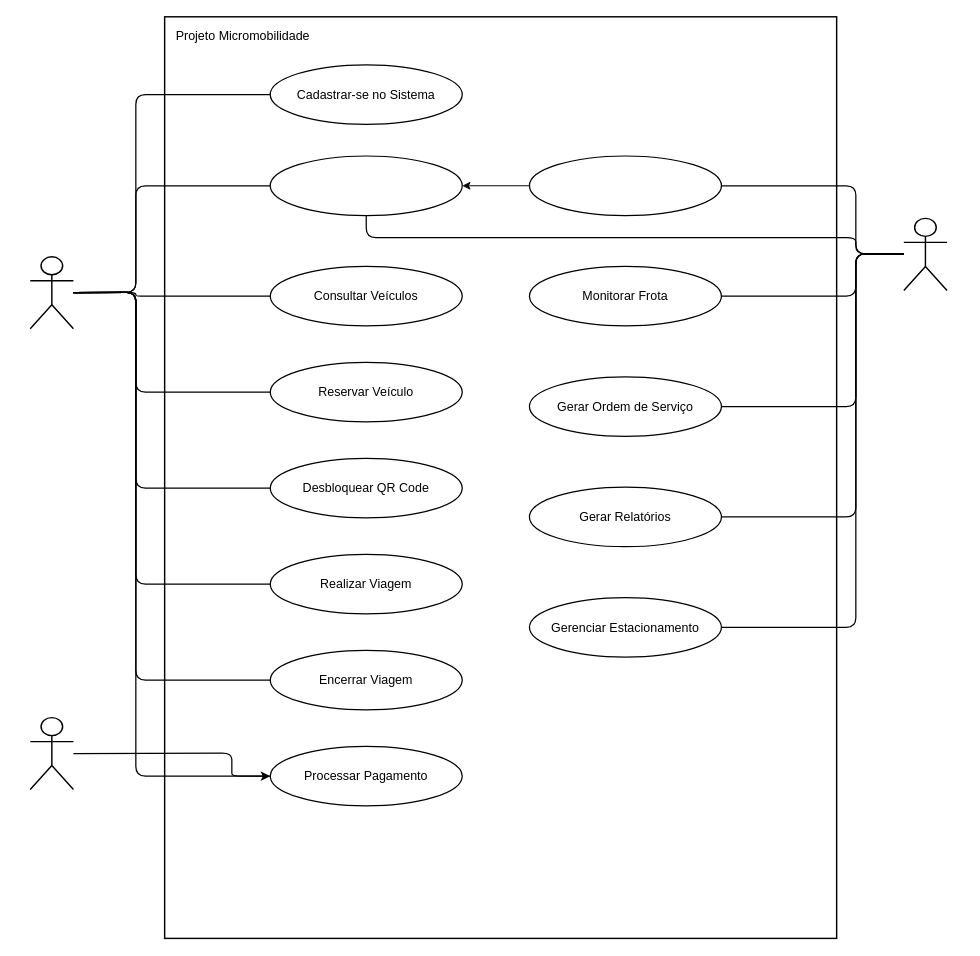
This 980x956 diagram has some shape labels left out. Each missing label, with the centre of its shape:
"Administrador" belongs at pixel 925 254.
"API de Pagamentos" belongs at pixel 51 753.
"Gerenciar Frota" belongs at pixel 625 185.
"Realizar Login" belongs at pixel 365 185.
"Usuário" belongs at pixel 51 292.
